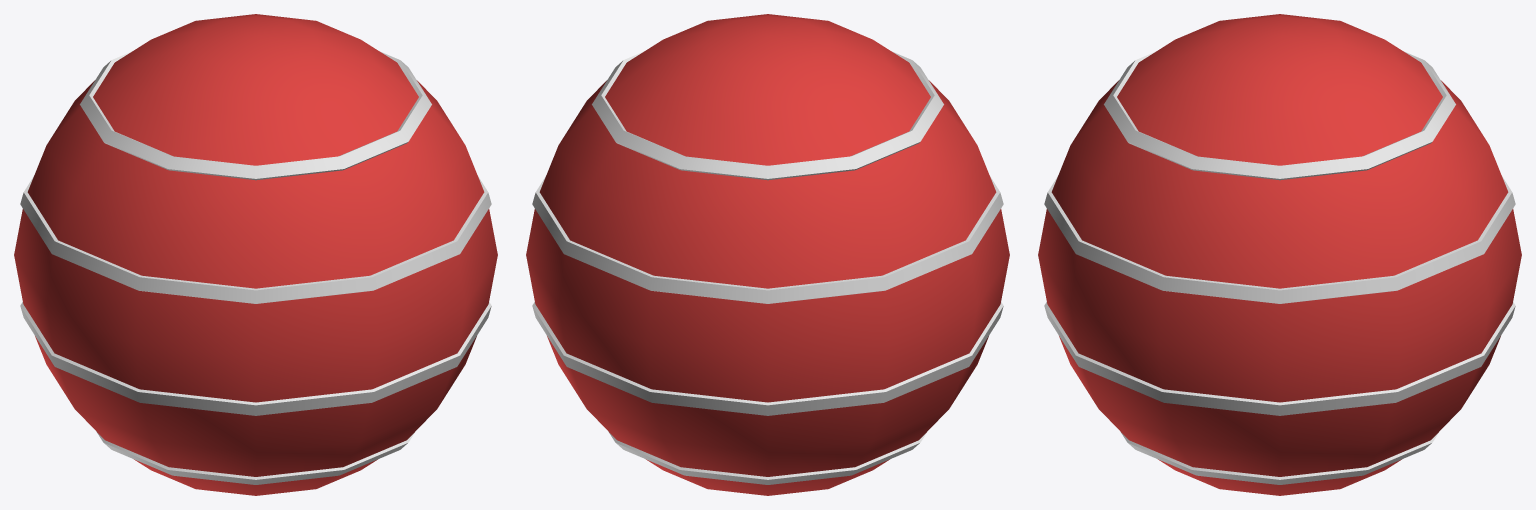
File: Yoga_Ball_v01.fbx
The picture shows the model from 3 angles, left to right: view 1: azimuth 30°, elevation 25°; view 2: azimuth 150°, elevation 25°; view 3: azimuth 270°, elevation 25°; orthographic projection.
Visible parts, largest first — view 1: Yoga_Ball_v01; view 2: Yoga_Ball_v01; view 3: Yoga_Ball_v01.
Part boxes in pixels (x1=…): Yoga_Ball_v01: x1=14, y1=14, x2=497, y2=495; Yoga_Ball_v01: x1=526, y1=14, x2=1009, y2=495; Yoga_Ball_v01: x1=1038, y1=14, x2=1521, y2=495.
Bounding box in the file's own units: 0.5404 × 0.5404 × 0.5404.
Materials: 1 (1 with a texture image).
